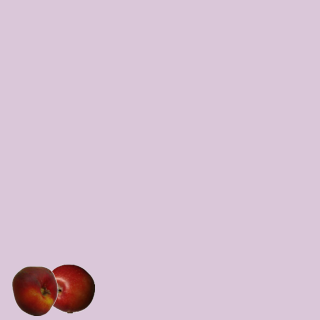Apple Braeburn: (44, 263, 94, 313)
Nectarine Flat: (9, 265, 59, 315)
